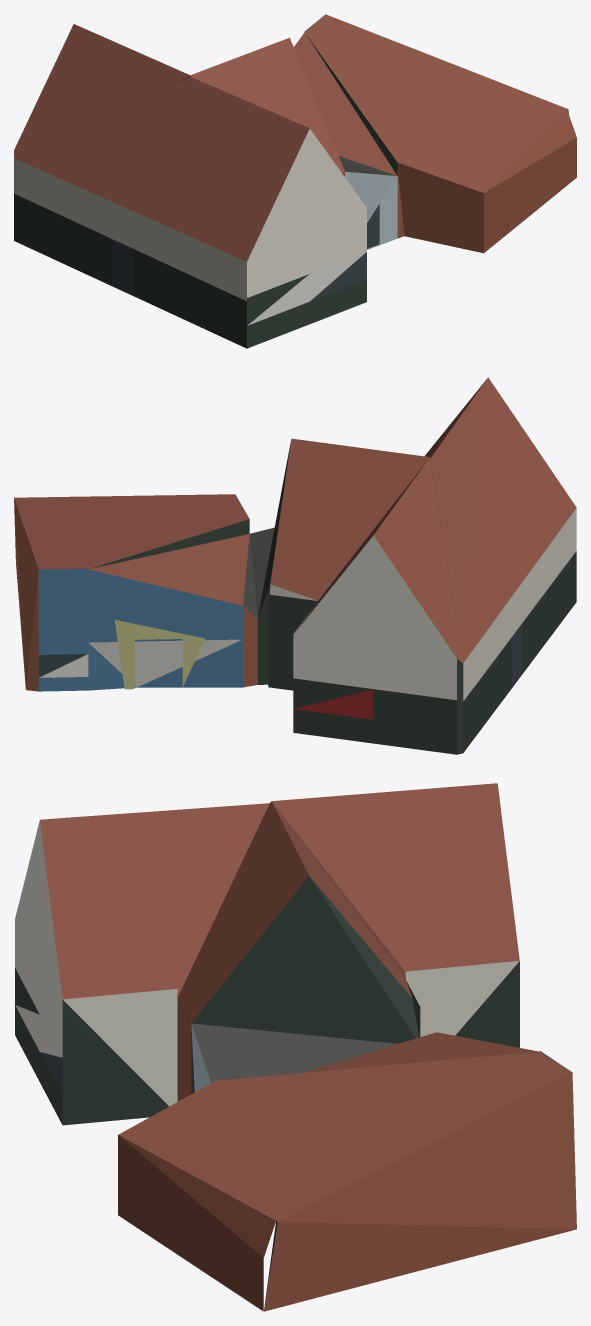
The model's file is henrick-de-keijser-buurtgebouw.lod2.glb.
The picture shows the model from 3 angles, top to bottom: view 1: azimuth 30°, elevation 25°; view 2: azimuth 150°, elevation 25°; view 3: azimuth 270°, elevation 25°; orthographic projection. The views are drawn at different scales.
Visible parts, largest first — view 1: lod2; view 2: lod2; view 3: lod2.
Part boxes in pixels (<box>): lod2: <box>14,14,576,348</box>; lod2: <box>14,377,576,754</box>; lod2: <box>15,783,576,1311</box>.
Bounding box in the file's own units: 24.23 × 9.32 × 18.1.
